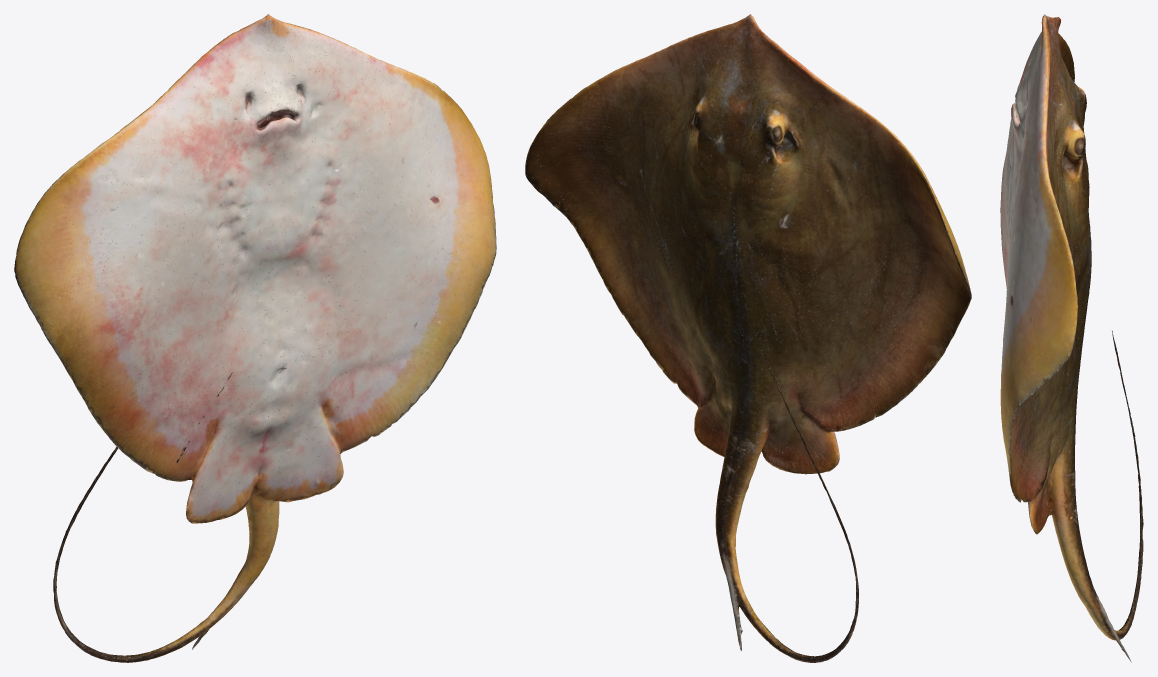
The picture shows the model from 3 angles, left to right: view 1: azimuth 30°, elevation 25°; view 2: azimuth 150°, elevation 25°; view 3: azimuth 270°, elevation 25°; orthographic projection. The views are drawn at different scales.
Visible parts, largest first — view 1: Object_6.001; view 2: Object_6.001; view 3: Object_6.001.
Part boxes in pixels (<box>): Object_6.001: <box>14,14,496,662</box>; Object_6.001: <box>525,14,971,662</box>; Object_6.001: <box>1000,14,1143,662</box>.
Size of the model in its own units: 3.02 by 4 by 0.7796.
Materials: 1 (1 with a texture image).
